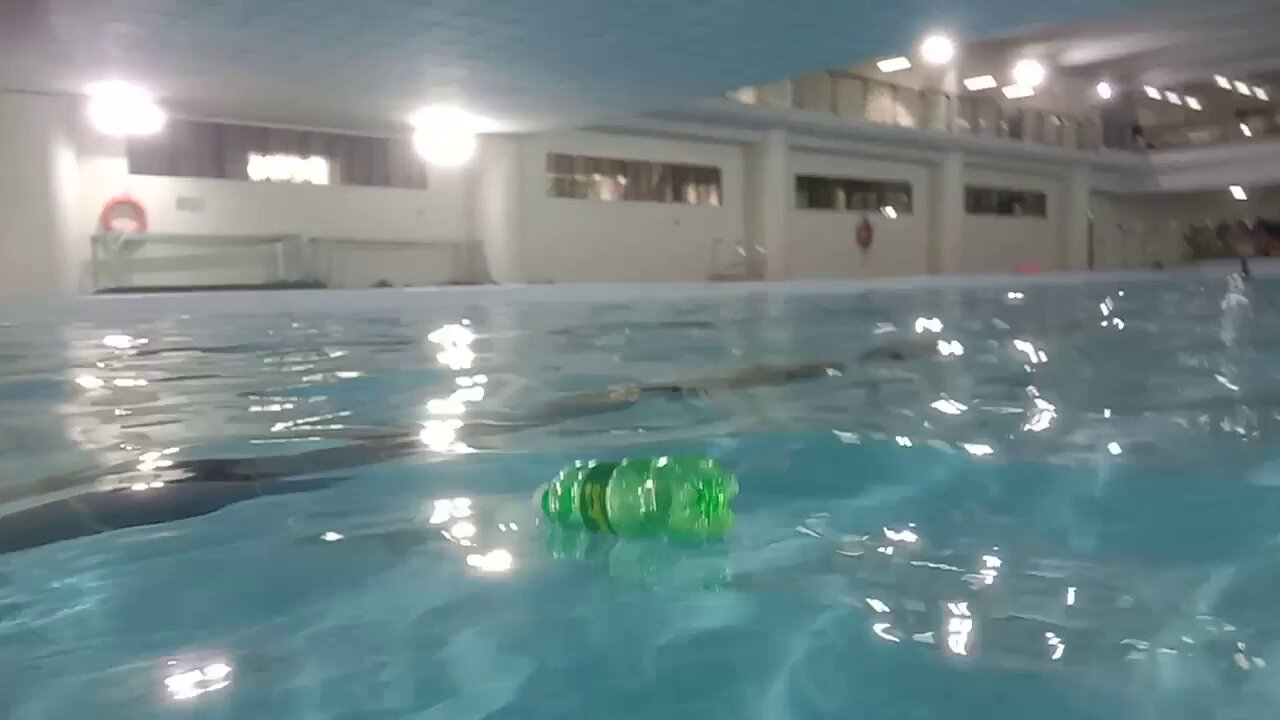plastic_bottle: (533, 454, 739, 541)
